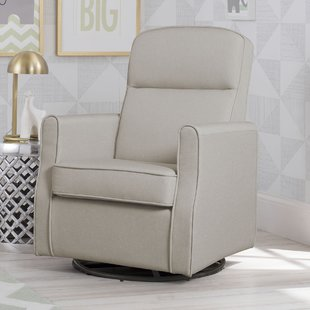chairs: (30, 23, 259, 277)
